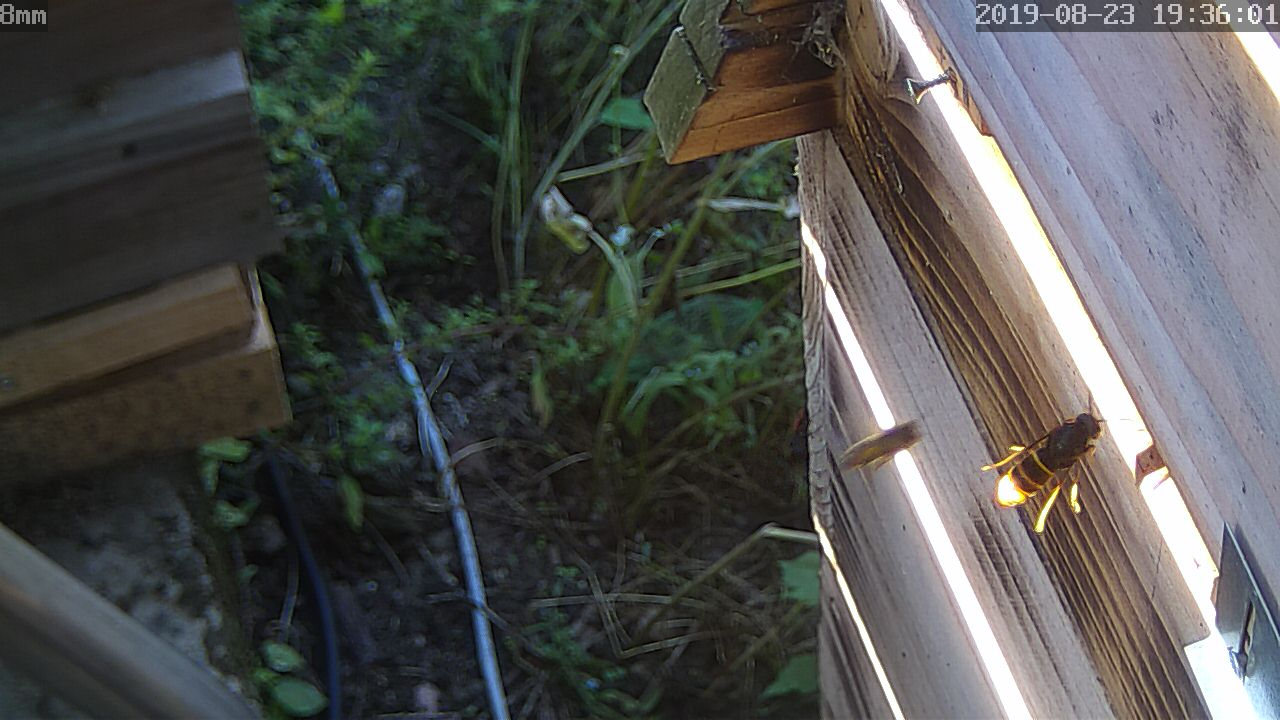hornet: (72, 56, 1224, 701), (1003, 418, 1091, 509)
